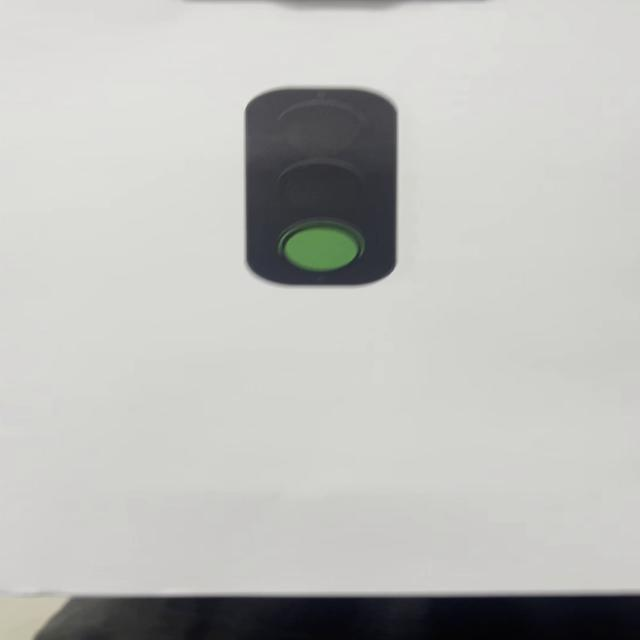green: (245, 87, 400, 288)
